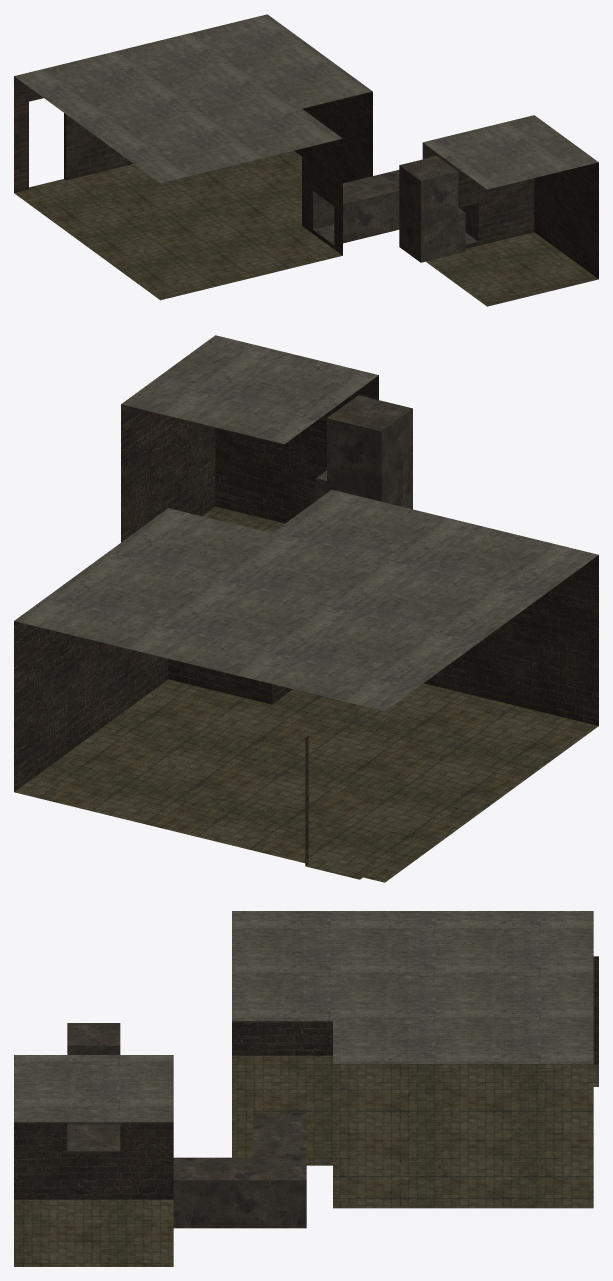
The model's file is electrical_room.glb.
3 views of the same model, one above another, from view 1: azimuth 30°, elevation 25°; view 2: azimuth 150°, elevation 25°; view 3: azimuth 270°, elevation 25° (orthographic). The views are drawn at different scales.
Visible parts, largest first — view 1: electrical_room-col; view 2: electrical_room-col; view 3: electrical_room-col.
Boxes of the visible parts, x1=… form: electrical_room-col: x1=14, y1=14, x2=598, y2=306; electrical_room-col: x1=14, y1=335, x2=598, y2=882; electrical_room-col: x1=14, y1=911, x2=598, y2=1266.
Bounding box in the file's own units: 9.4 × 3.1 × 11.
Materials: 4 (4 with a texture image).
